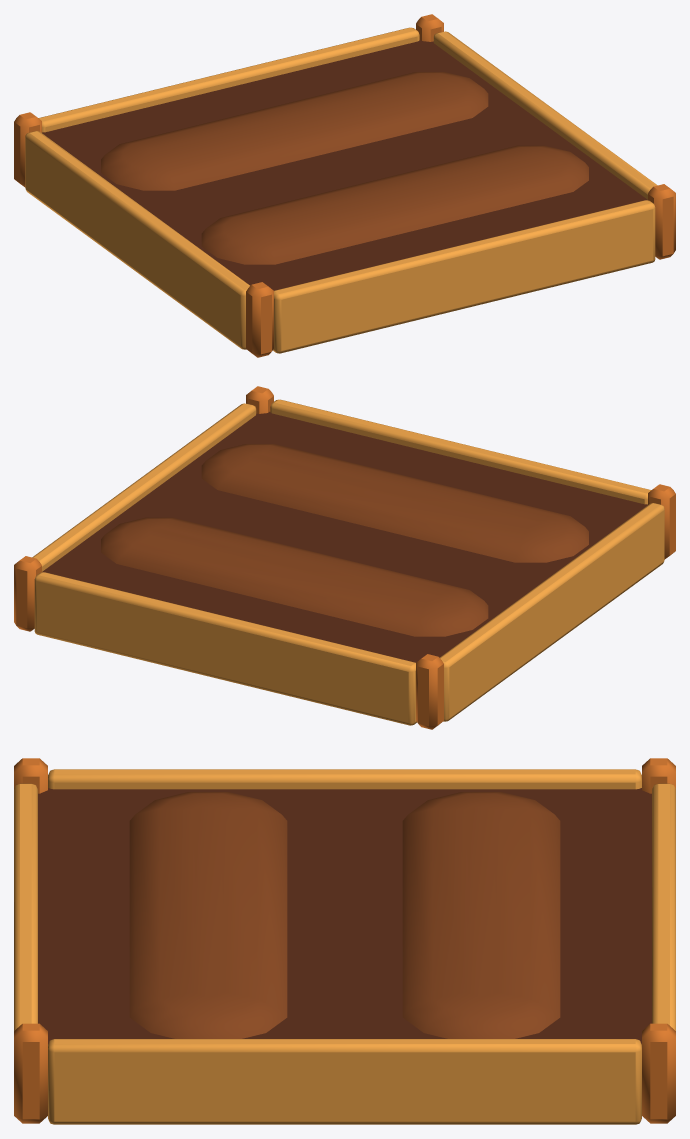
The model's file is garden-bed.glb.
The picture shows the model from 3 angles, top to bottom: view 1: azimuth 30°, elevation 25°; view 2: azimuth 150°, elevation 25°; view 3: azimuth 270°, elevation 25°; orthographic projection. The views are drawn at different scales.
Visible parts, largest first — view 1: garden-bed; view 2: garden-bed; view 3: garden-bed.
Boxes of the visible parts, <box> form: garden-bed: <box>14,14,675,357</box>; garden-bed: <box>14,386,675,729</box>; garden-bed: <box>14,758,675,1124</box>.
Size of the model in its own units: 1.94 by 0.3 by 1.94.
